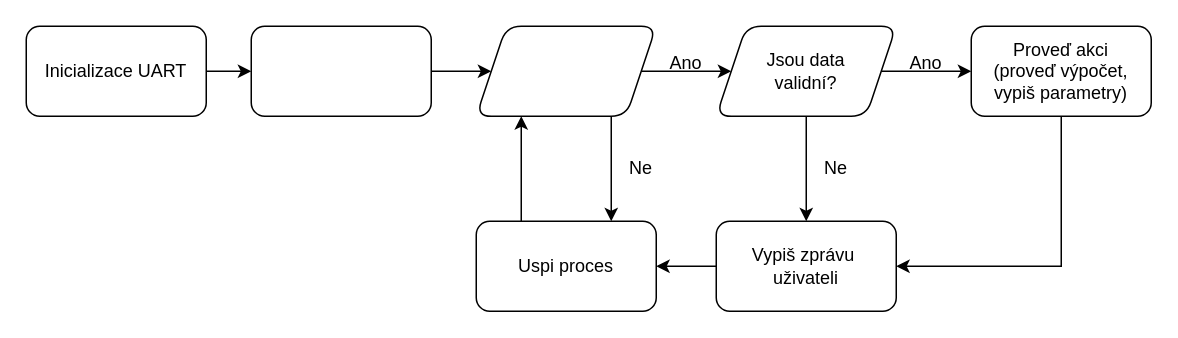
This 1178x338 diagram has some shape labels left out. The shapes that lost their labels are listed below. From the top down, each one's centre as x and y in pixels, then its label:
(x=340, y=70): Získání základních vstupních dat od uživatele
(x=565, y=70): Je dostupná zpráva na UART?
